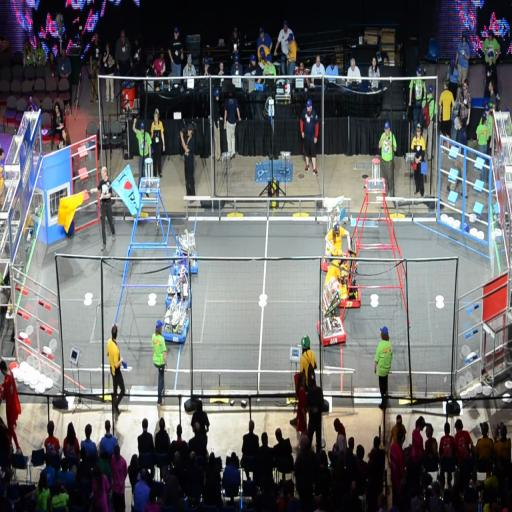robot: (328, 234, 362, 310), (322, 196, 356, 272), (315, 275, 349, 349), (159, 296, 190, 346), (169, 229, 199, 274), (165, 268, 193, 309)
